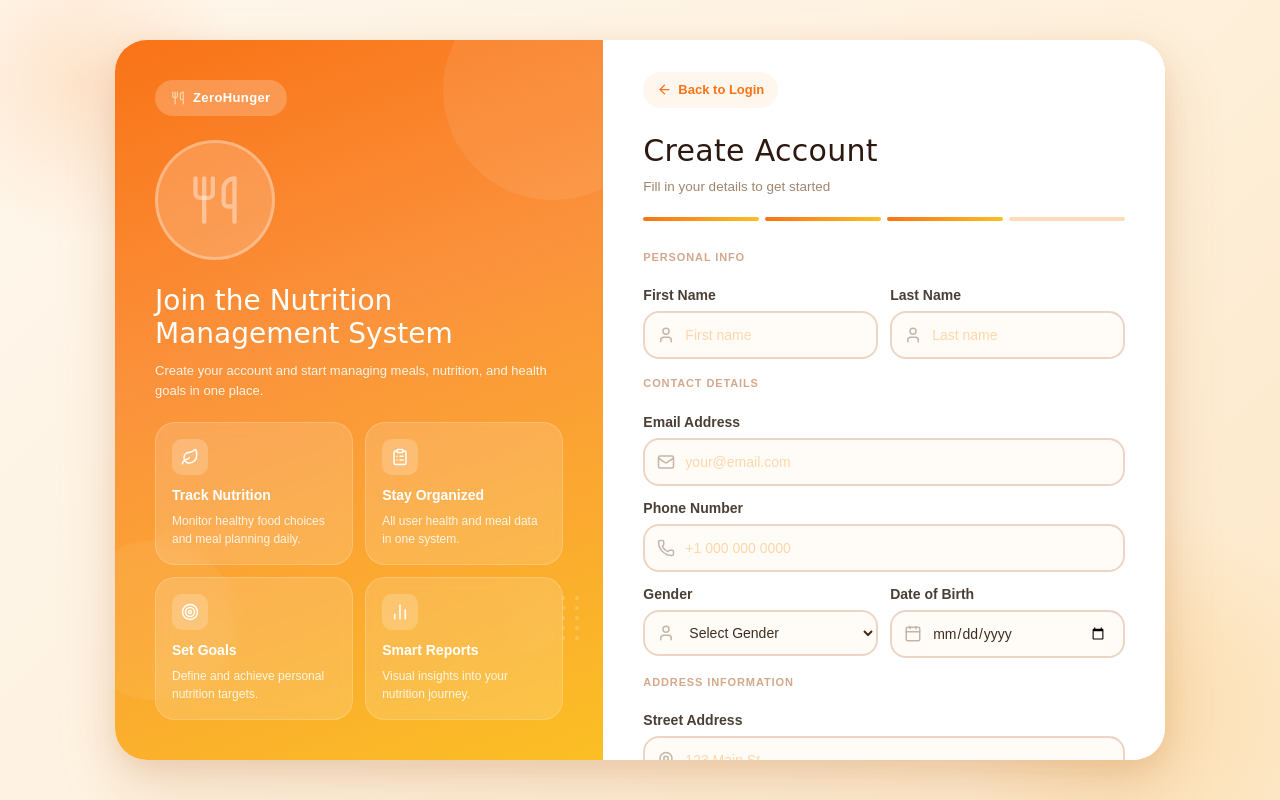
Test case: RegisterPage › successful registration
Type "John" into the field with placeholder "First name" at coordinates (761, 335), box [643,311,878,359]
Type "Doe" into the field with placeholder "Last name" at coordinates (1008, 335), box [890,311,1125,359]
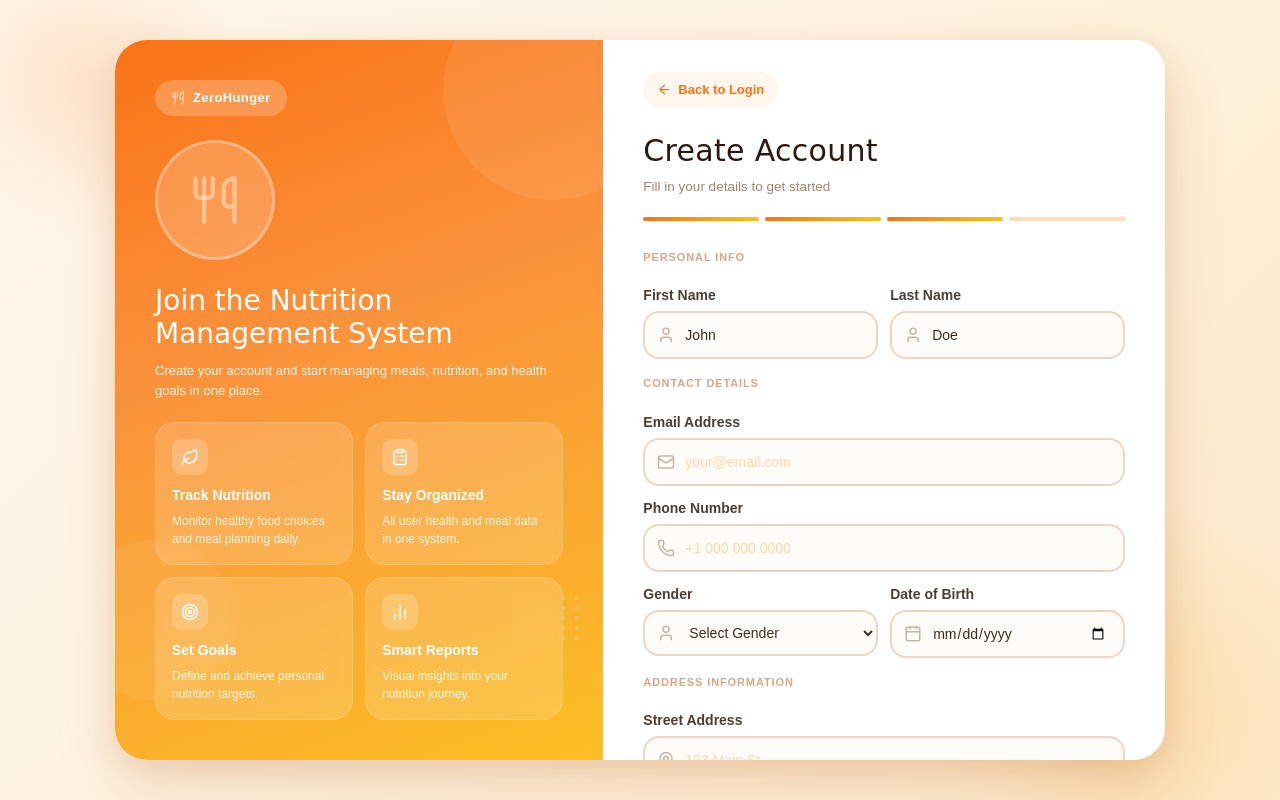
Type "john@mail.com" into the field with placeholder "your@email.com" at coordinates (884, 462), box [643,438,1125,486]
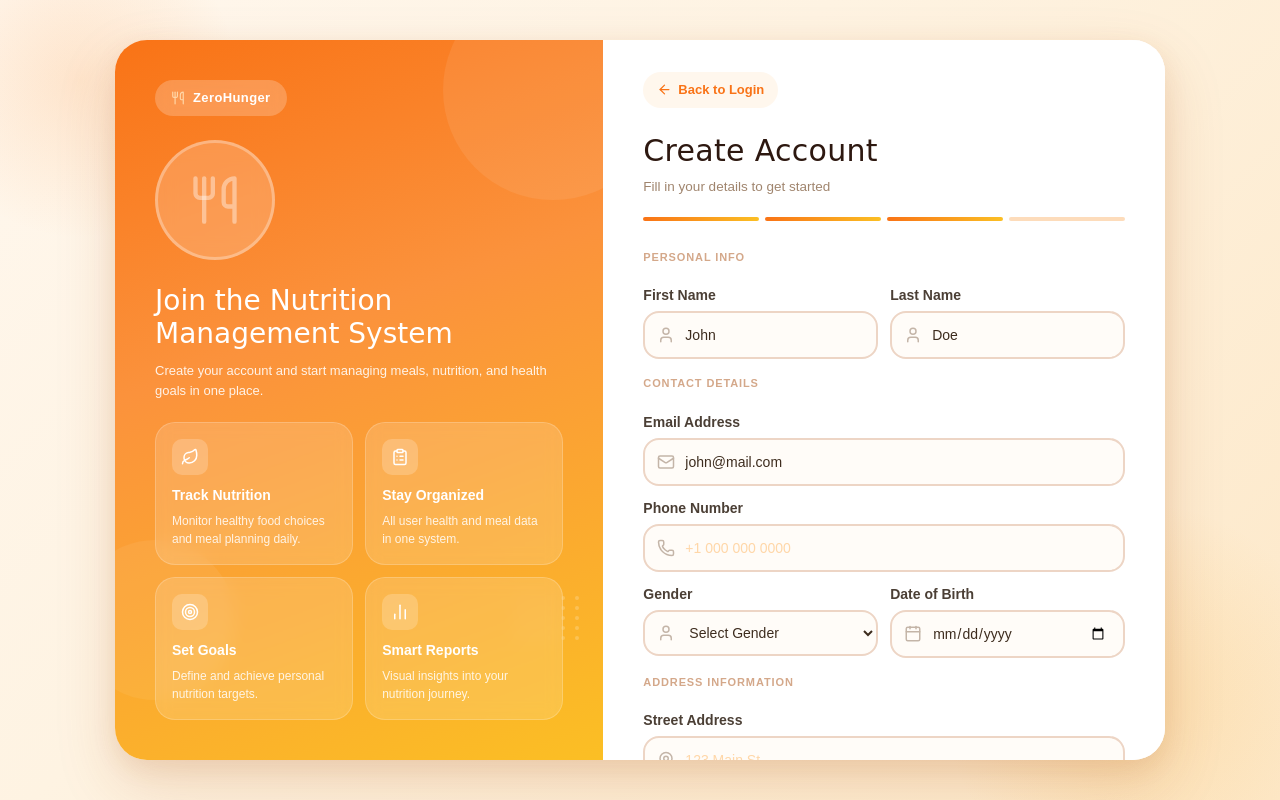
Type "1234567890" into the field with placeholder "+1 000 000 0000" at coordinates (884, 548), box [643,524,1125,572]
(page scrolled)
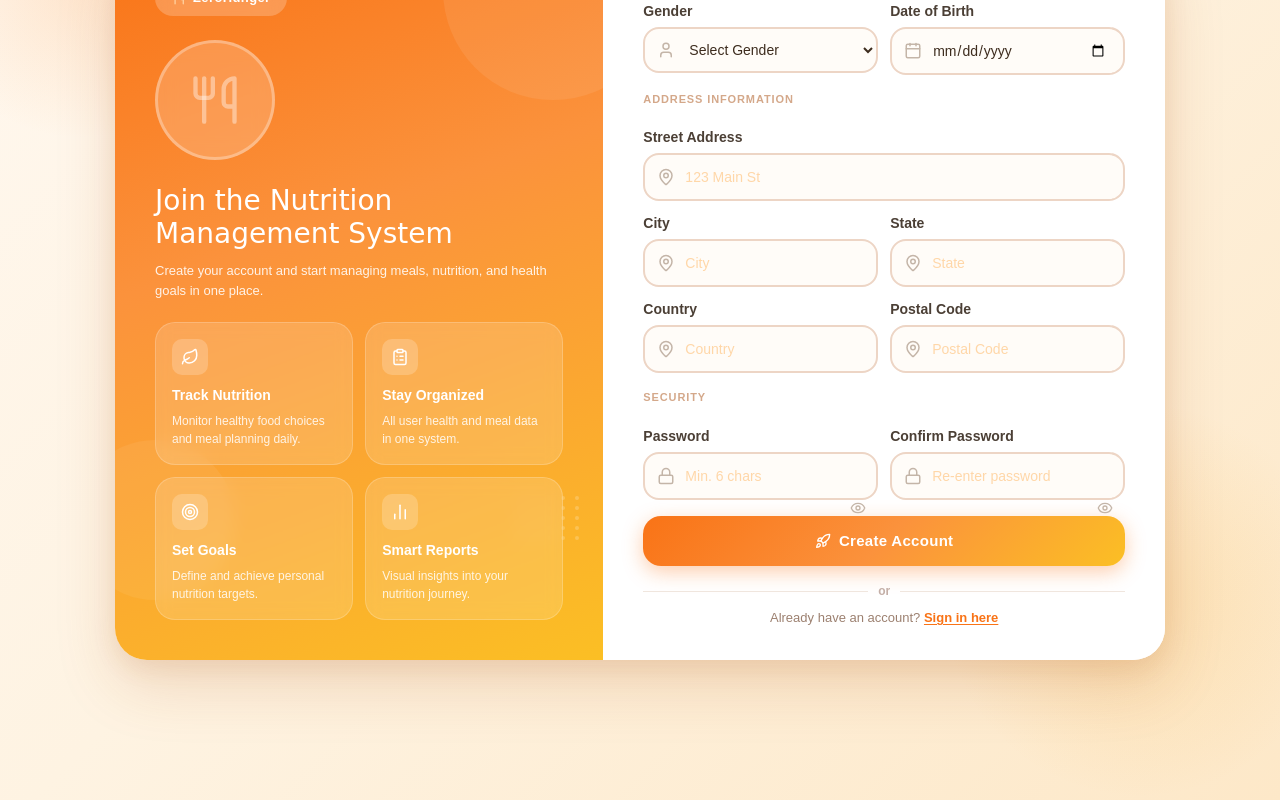
Type "password123" into the password field with placeholder "Min. 6 chars" at coordinates (761, 476), box [643,452,878,500]
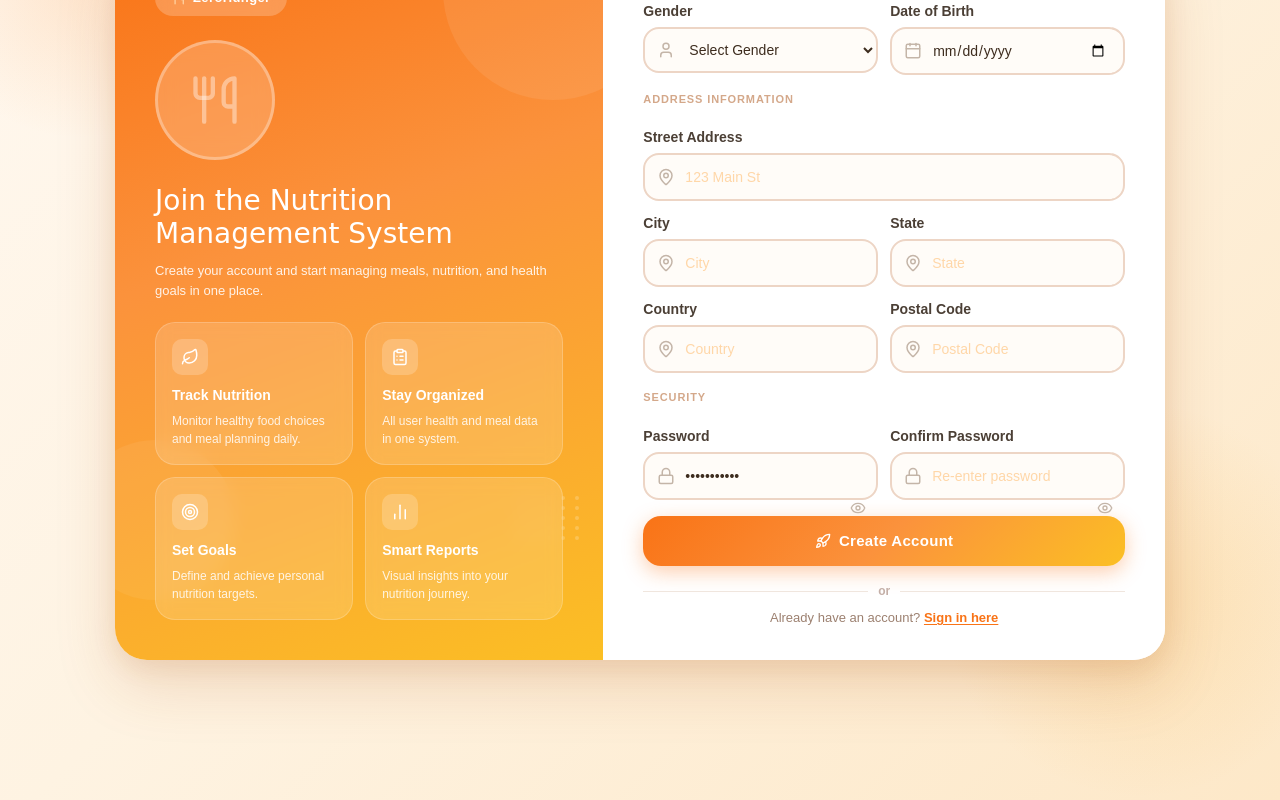
Type "password123" into the password field with placeholder "Re-enter password" at coordinates (1008, 476), box [890,452,1125,500]
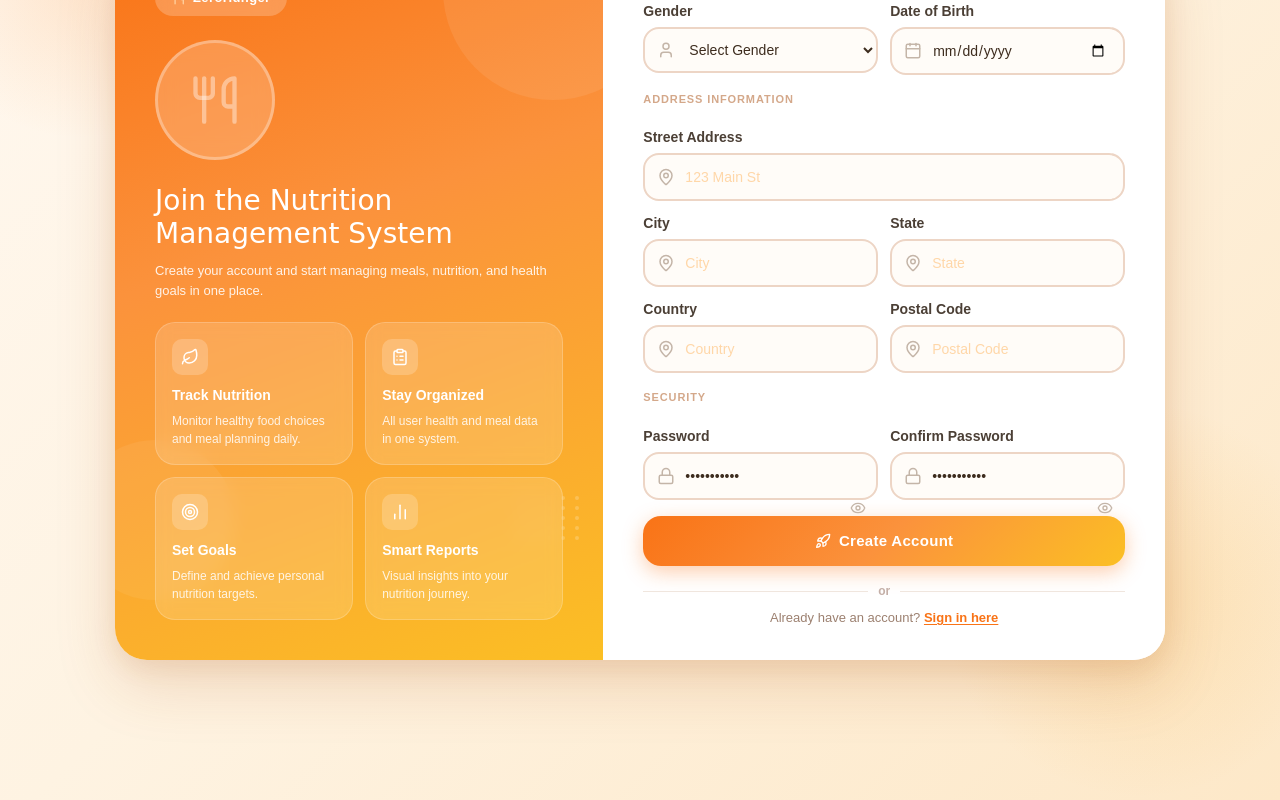
Click the button "Create Account" at coordinates (884, 541), box [643,516,1125,566]
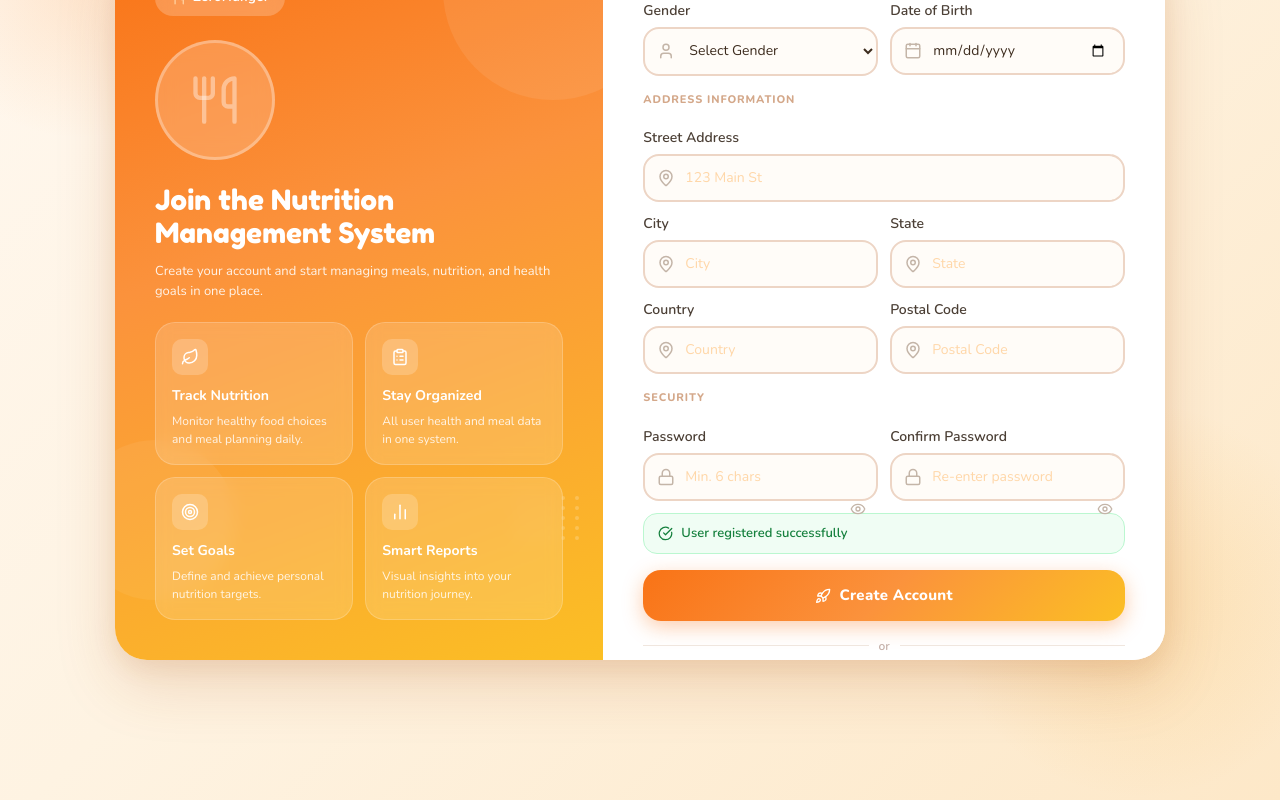
Check: the text "User registered successfully" is shown, box [681,524,847,543]
